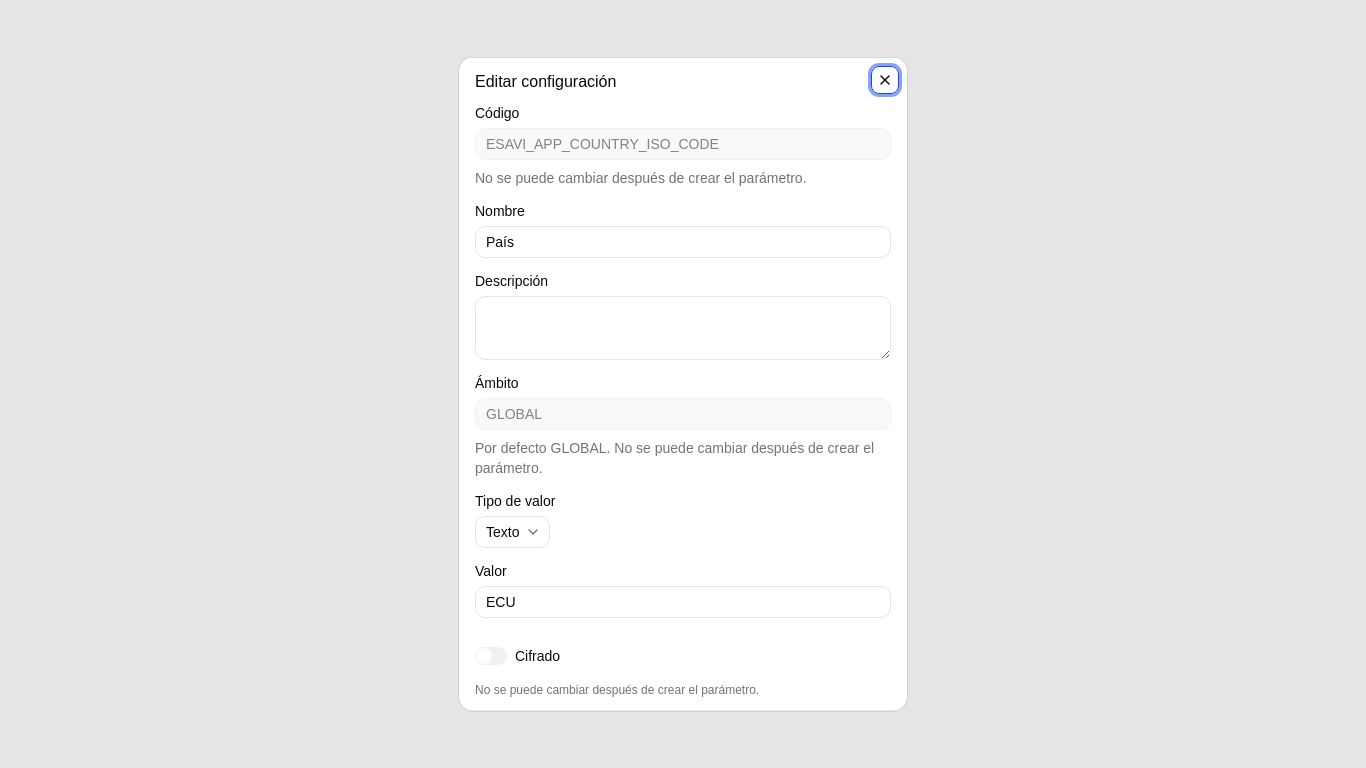
Scenario: SystemConfigFormDialog — SPEC FE19 §4 paso 5 › tocar el valor sin indicar el motivo bloquea el envío
The image size is (1366, 768).
Step 1. Replace the text in the field labelled "Valor" with "PER" → x=683, y=602, box [475,586,891,618]
(page scrolled)
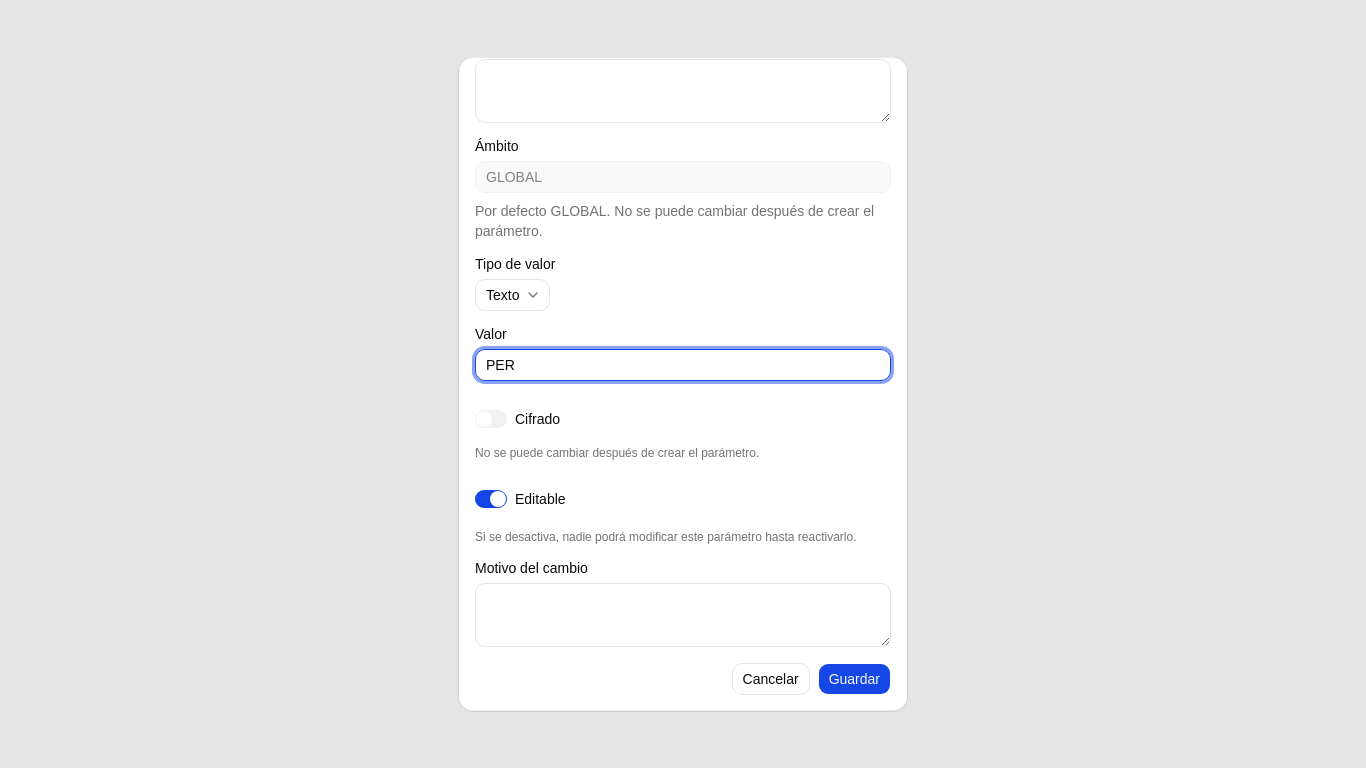
Step 2. Click the button "Guardar" → x=854, y=679, box [818,663,891,695]
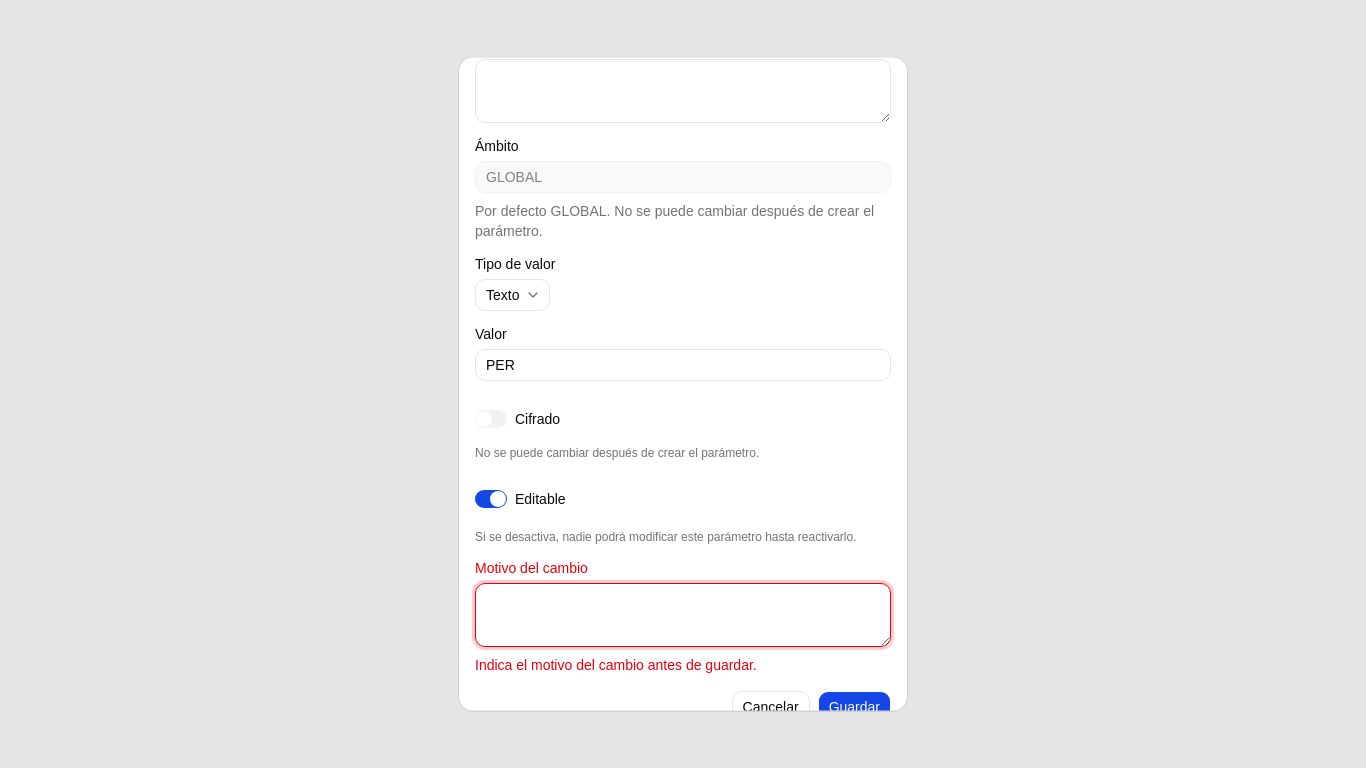
Result: the text "Indica el motivo del cambio antes de guardar." is shown at [475,657,757,673]
